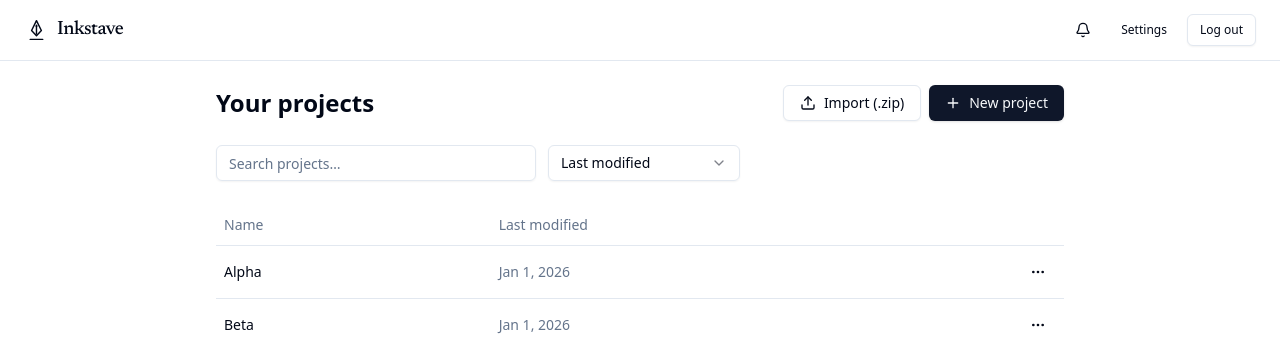
ProjectsPage › filters the list with the search box
Expected: the link "Alpha" is shown, top-left (224, 262), bottom-right (262, 280)
Type "bet" into the field labelled "Search projects".
click(376, 163); type("bet")  # box top-left (216, 145), bottom-right (536, 181)
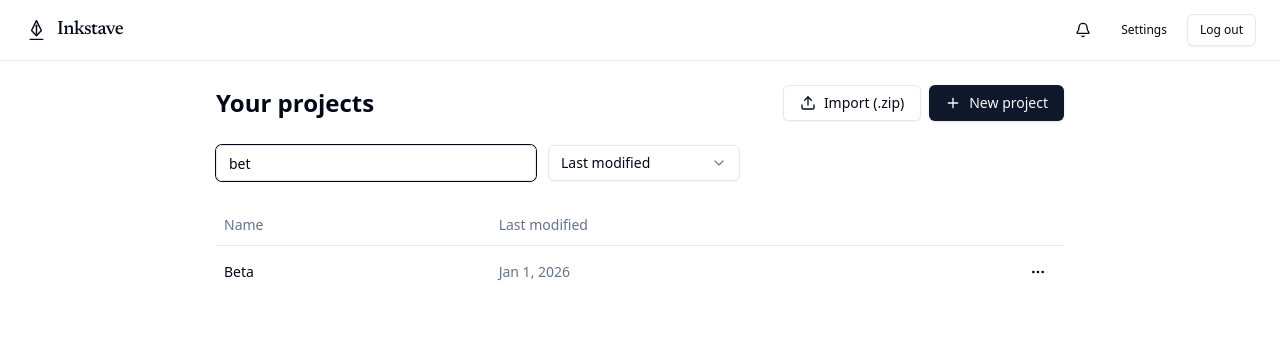
Expected: the link "Beta" is shown, top-left (224, 262), bottom-right (254, 280)
Expected: no links "Alpha" are shown
